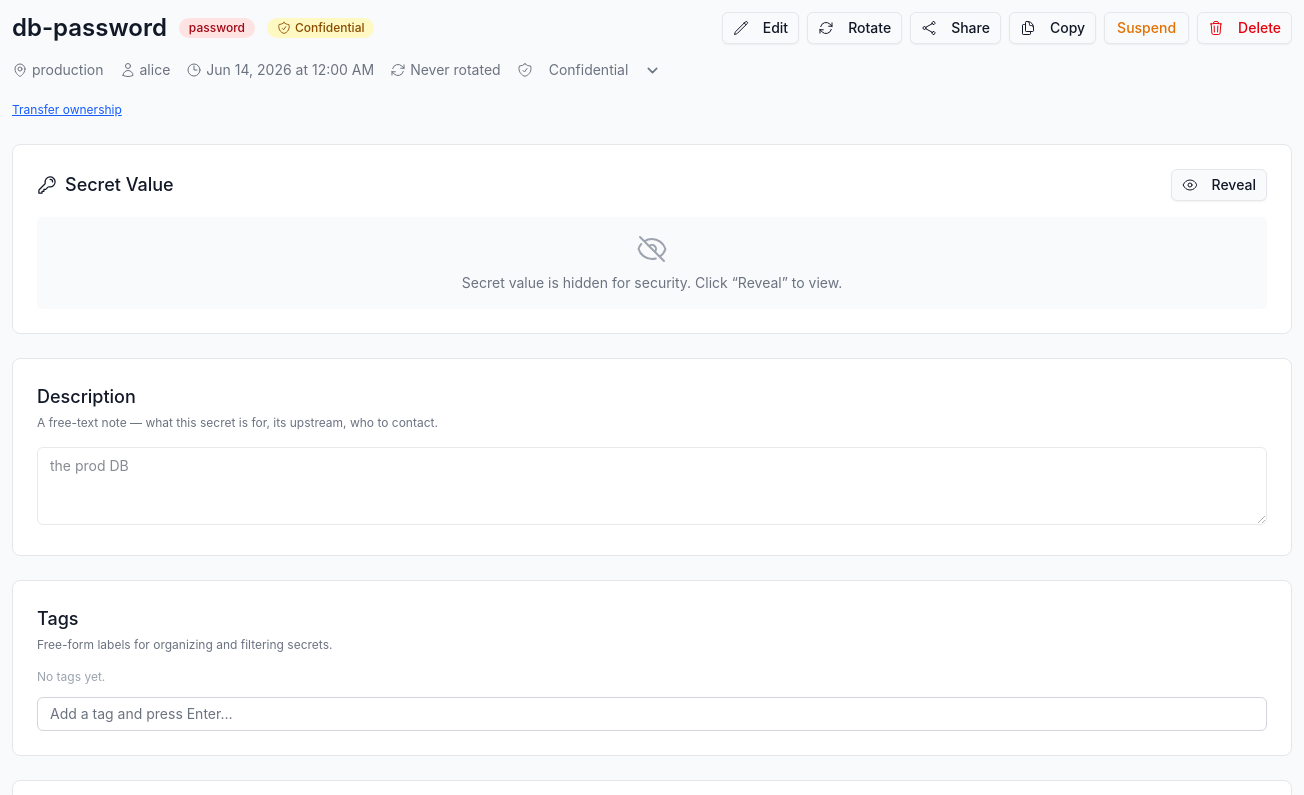
Scenario: SecretDetailView secret value reveal › shows nothing when revealed but there are no versions
Click the button "Reveal".
click(1219, 185)  # box [1170,169,1267,201]
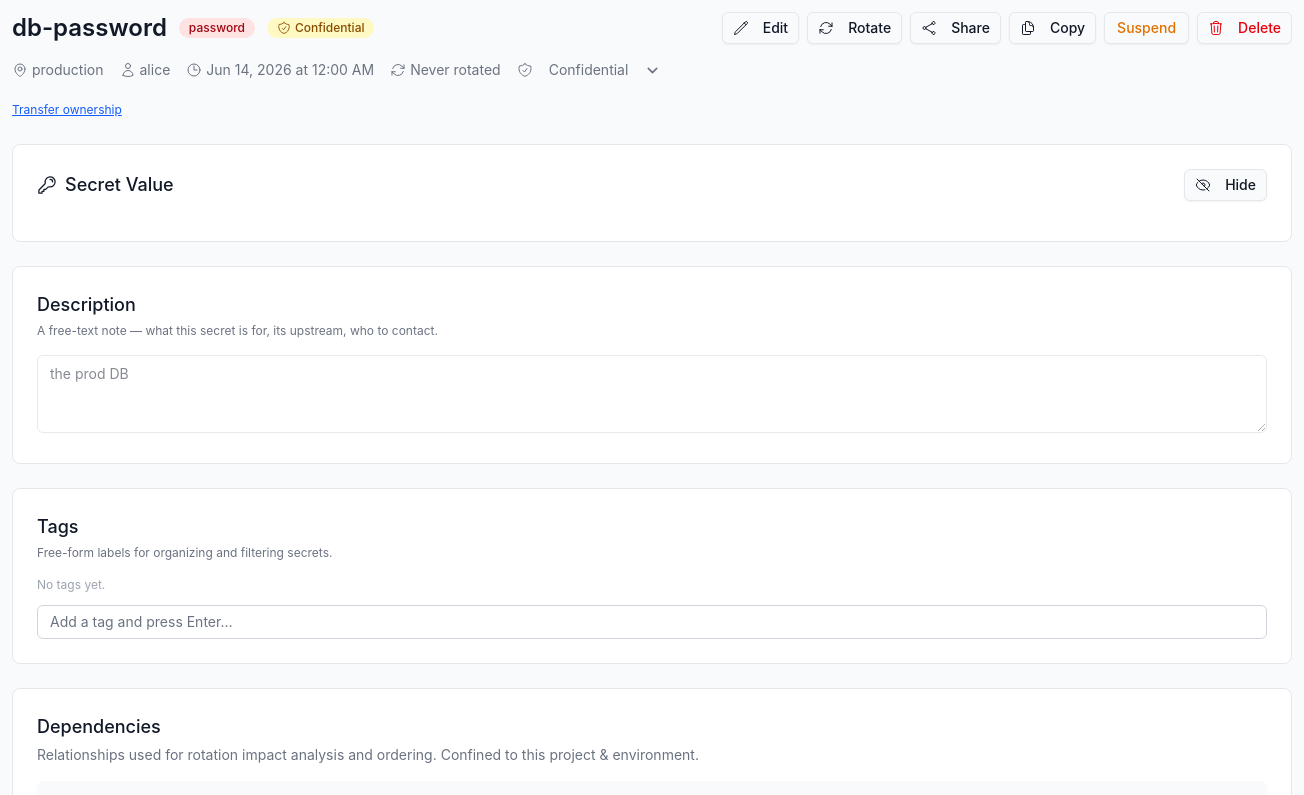
Expected: the number of buttons "Copy" is 1, [1009,12,1096,44]
Expected: the text "Secret value is hidden" is gone
